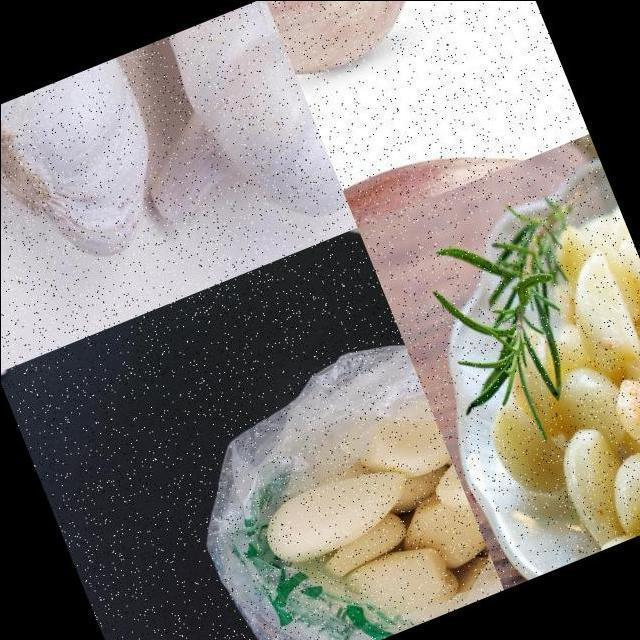garlic: (427, 199, 640, 573), (0, 27, 262, 298), (97, 0, 350, 279), (241, 395, 500, 640), (266, 0, 479, 92)
